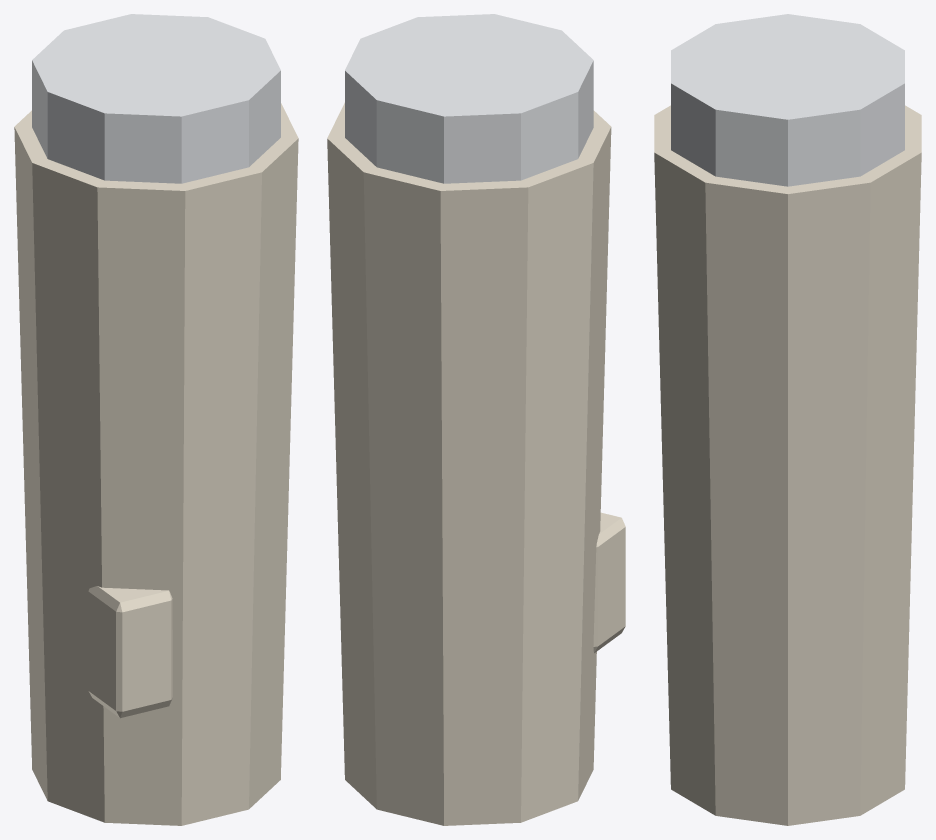
File: b17_folding_shopping_trolley.glb
3 views of the same model, side by side, from view 1: azimuth 30°, elevation 25°; view 2: azimuth 150°, elevation 25°; view 3: azimuth 270°, elevation 25° (orthographic).
Visible parts, largest first — view 1: b17_folding_shopping_trolley; view 2: b17_folding_shopping_trolley; view 3: b17_folding_shopping_trolley.
Boxes of the visible parts, <box> form: b17_folding_shopping_trolley: <box>14,14,298,825</box>; b17_folding_shopping_trolley: <box>327,14,625,825</box>; b17_folding_shopping_trolley: <box>654,14,921,825</box>.
Bounding box in the file's own units: 0.344 × 0.938 × 0.322.
